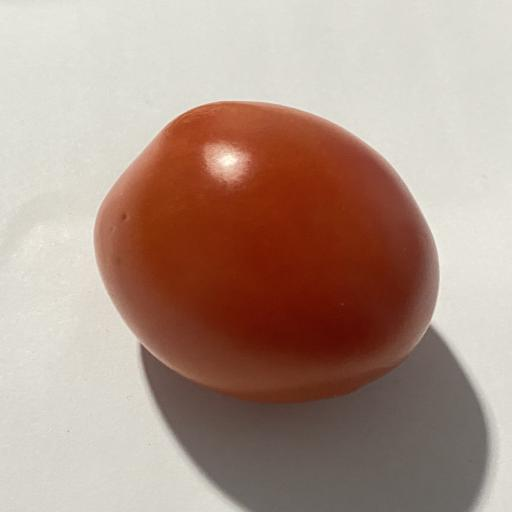ripe: (94, 102, 439, 402)
